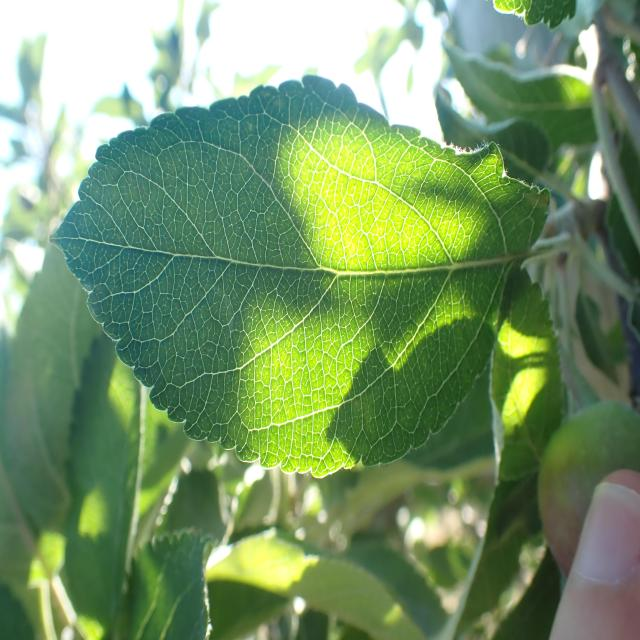healthy: (49, 81, 552, 480), (130, 528, 215, 639)
